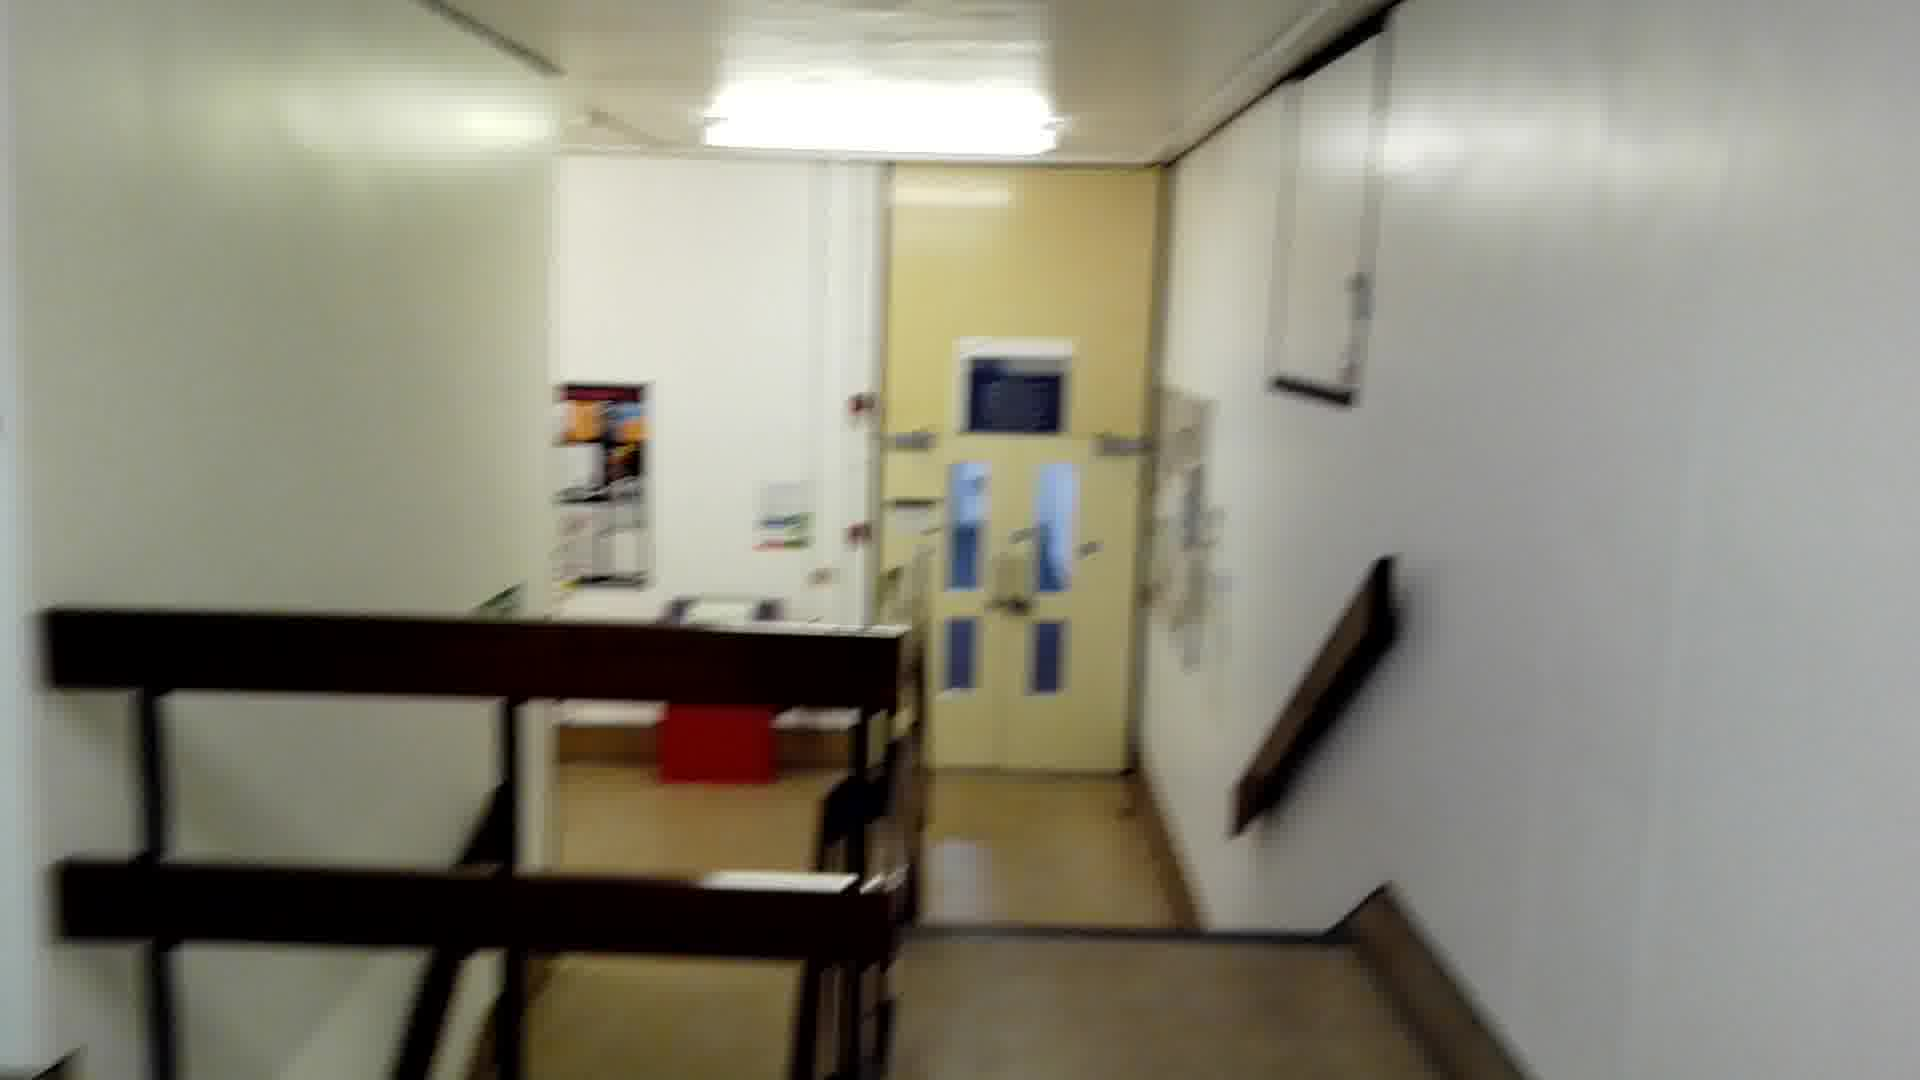Door: (866, 439, 1150, 781)
Stairs: (845, 798, 1412, 965)
